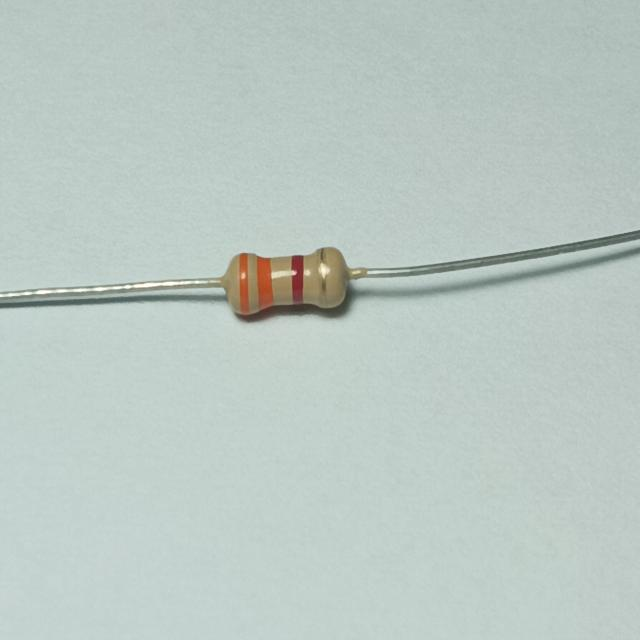3.3k ohms: (220, 222, 356, 333)
